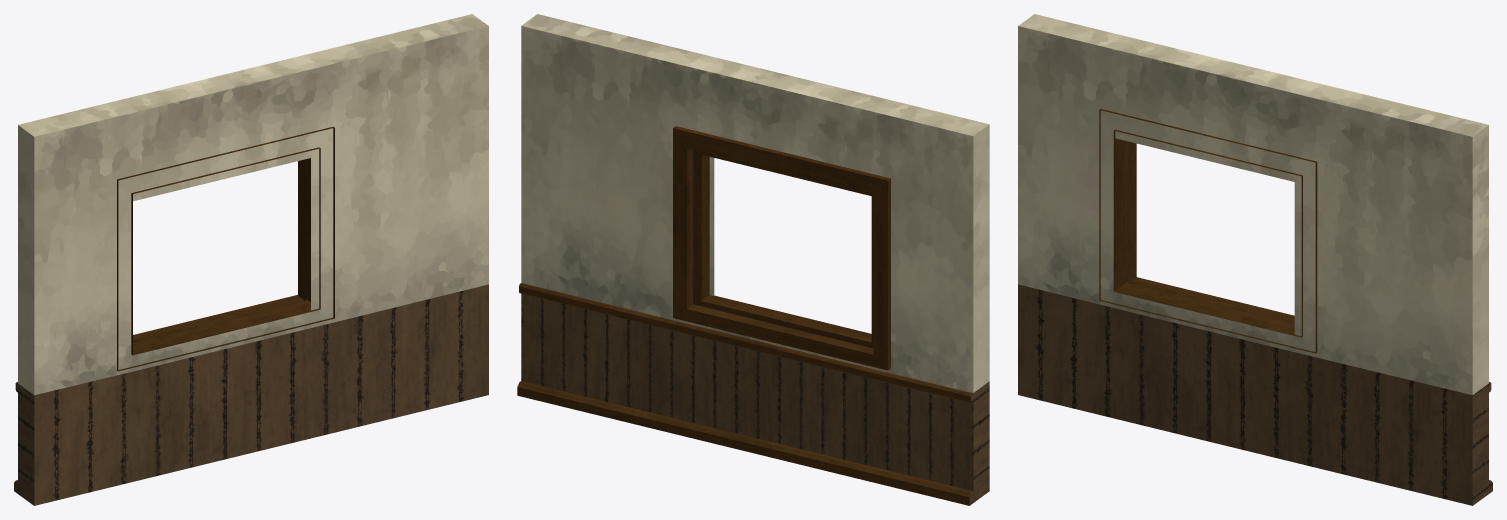
The model's file is Window.fbx.
The picture shows the model from 3 angles, left to right: view 1: azimuth 30°, elevation 25°; view 2: azimuth 150°, elevation 25°; view 3: azimuth 330°, elevation 25°; orthographic projection.
Visible parts, largest first — view 1: Window_1; view 2: Window_1; view 3: Window_1.
Boxes of the visible parts, box(x1,y1,x2,y2) form: Window_1: box(14, 14, 488, 505); Window_1: box(517, 14, 989, 505); Window_1: box(1018, 14, 1492, 505).
Size of the model in its own units: 349 by 271 by 28.79.
